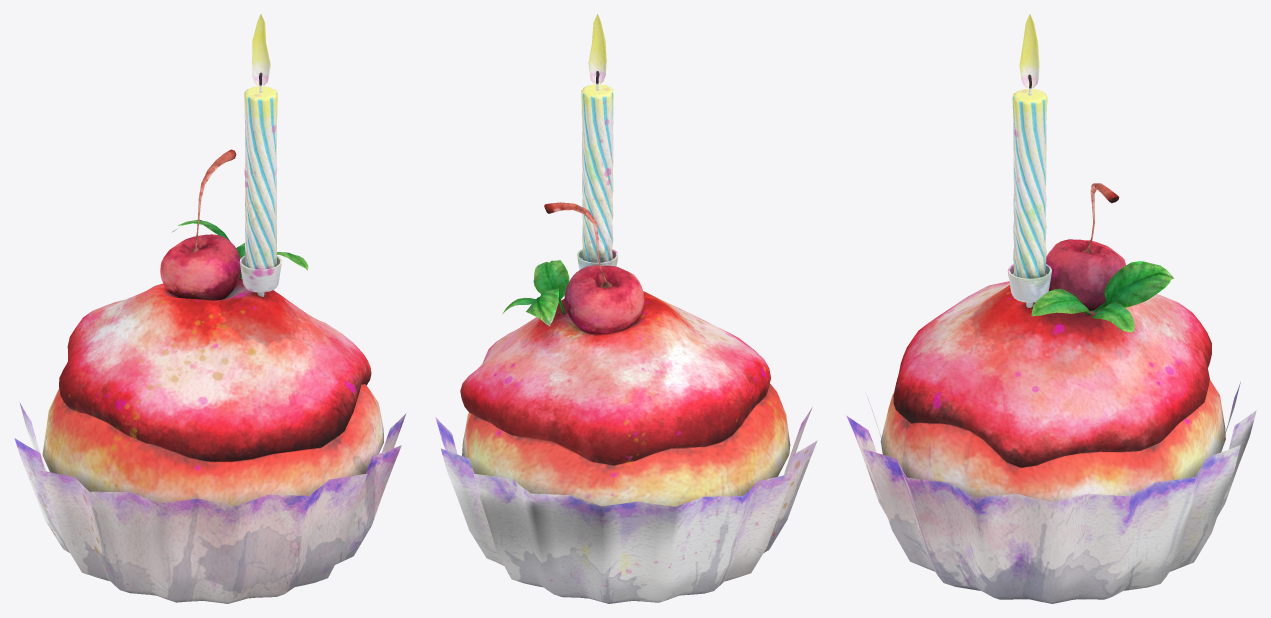
File: cake3.glb
3 renders of one model, left to right at view 1: azimuth 30°, elevation 25°; view 2: azimuth 150°, elevation 25°; view 3: azimuth 270°, elevation 25°, orthographic. The views are drawn at different scales.
Visible parts, largest first — view 1: Cake_0; view 2: Cake_0; view 3: Cake_0.
Boxes of the visible parts, box(x1,y1,x2,y2) form: Cake_0: box(14, 14, 406, 603); Cake_0: box(435, 14, 817, 603); Cake_0: box(846, 14, 1256, 603).
Bounding box in the file's own units: 0.1381 × 0.2061 × 0.1379.
Materials: 1 (1 with a texture image).
